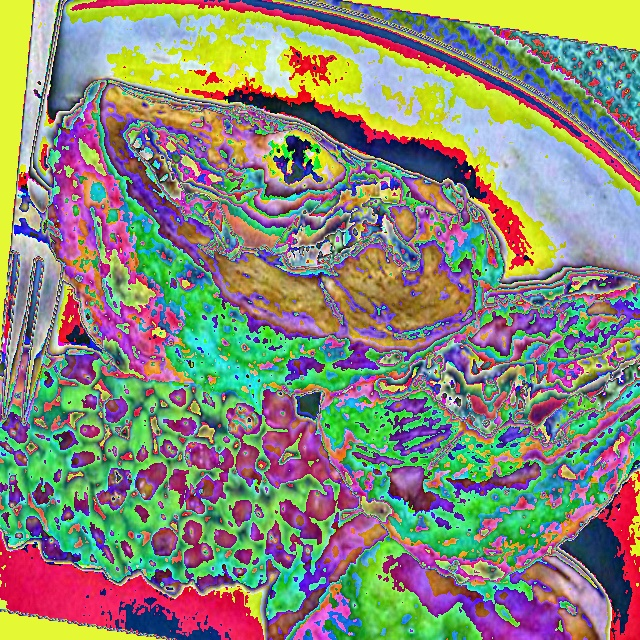background: (0, 80, 640, 639)
